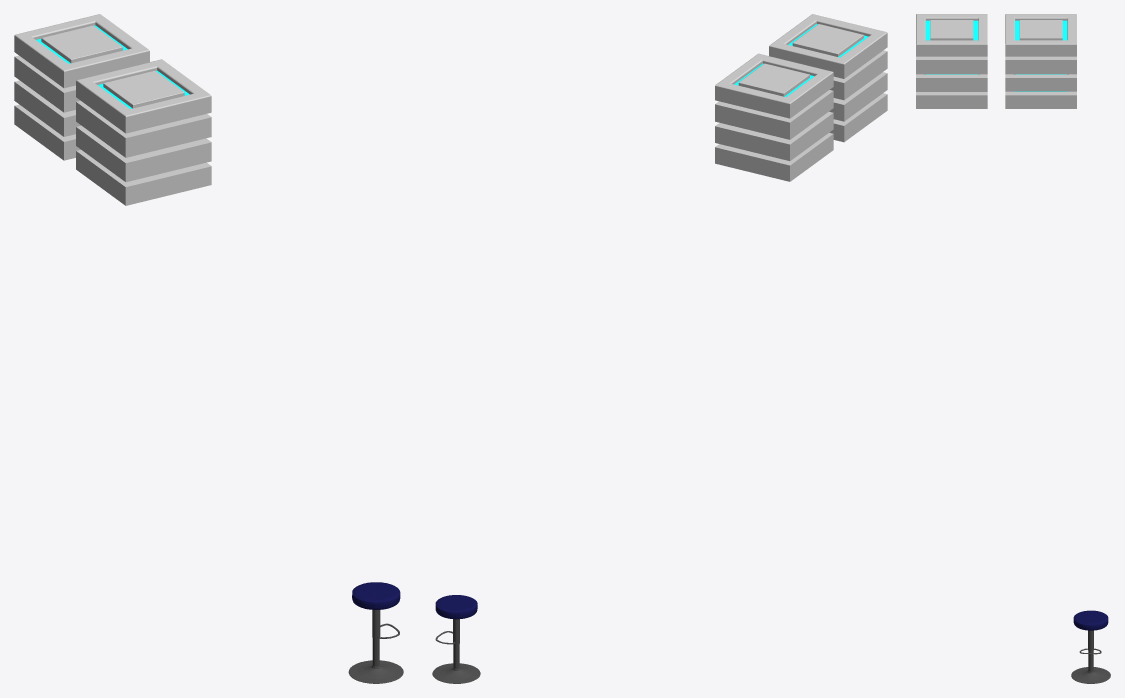
The model's file is compressed_Decors_2.glb.
The picture shows the model from 3 angles, left to right: view 1: azimuth 30°, elevation 25°; view 2: azimuth 150°, elevation 25°; view 3: azimuth 270°, elevation 25°; orthographic projection. The views are drawn at different scales.
Visible parts, largest first — view 1: Battery2, Battery1, Stool; view 2: Battery1, Battery2, Stool; view 3: Battery1, Battery2, Stool, BatteryLight.
Part boxes in pixels (x1=…): Battery2: x1=76, y1=59, x2=211, y2=205; Battery1: x1=14, y1=14, x2=149, y2=160; Stool: x1=348, y1=582, x2=403, y2=683; Battery1: x1=715, y1=53, x2=833, y2=181; Battery2: x1=769, y1=14, x2=887, y2=142; Stool: x1=432, y1=595, x2=480, y2=683; Battery1: x1=1005, y1=14, x2=1076, y2=108; Battery2: x1=916, y1=14, x2=987, y2=108; Stool: x1=1071, y1=610, x2=1110, y2=683; BatteryLight: x1=1015, y1=20, x2=1067, y2=91.
Size of the model in its own units: 7.07 by 12.57 by 4.18.
